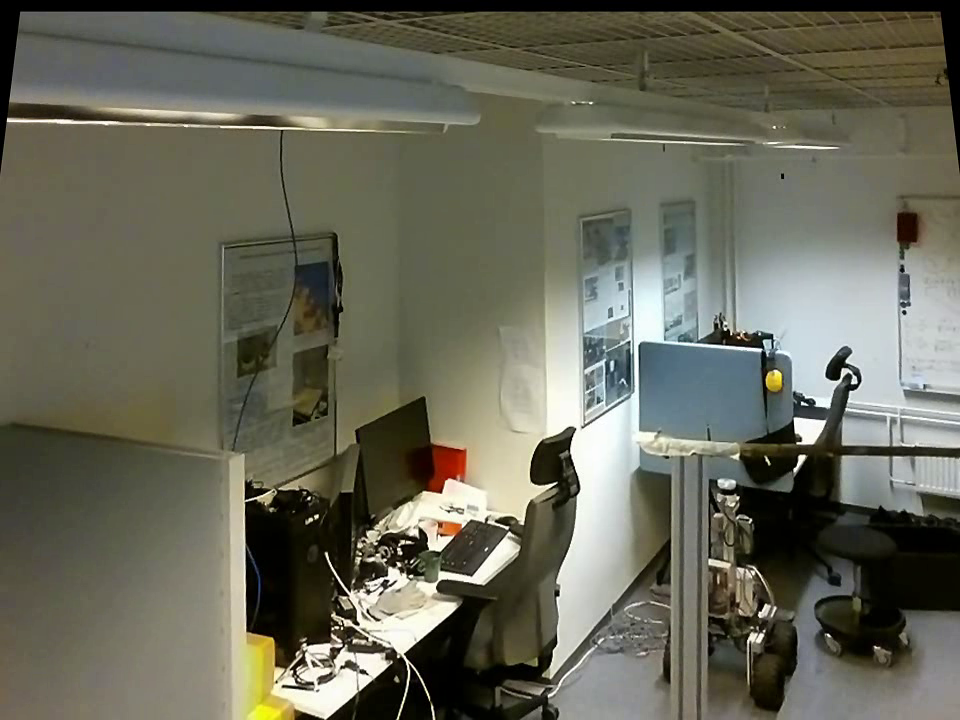aluminum_frame: (663, 460, 711, 717), (889, 191, 906, 389), (893, 369, 957, 404), (885, 182, 956, 207)
branch: (745, 429, 956, 465)
